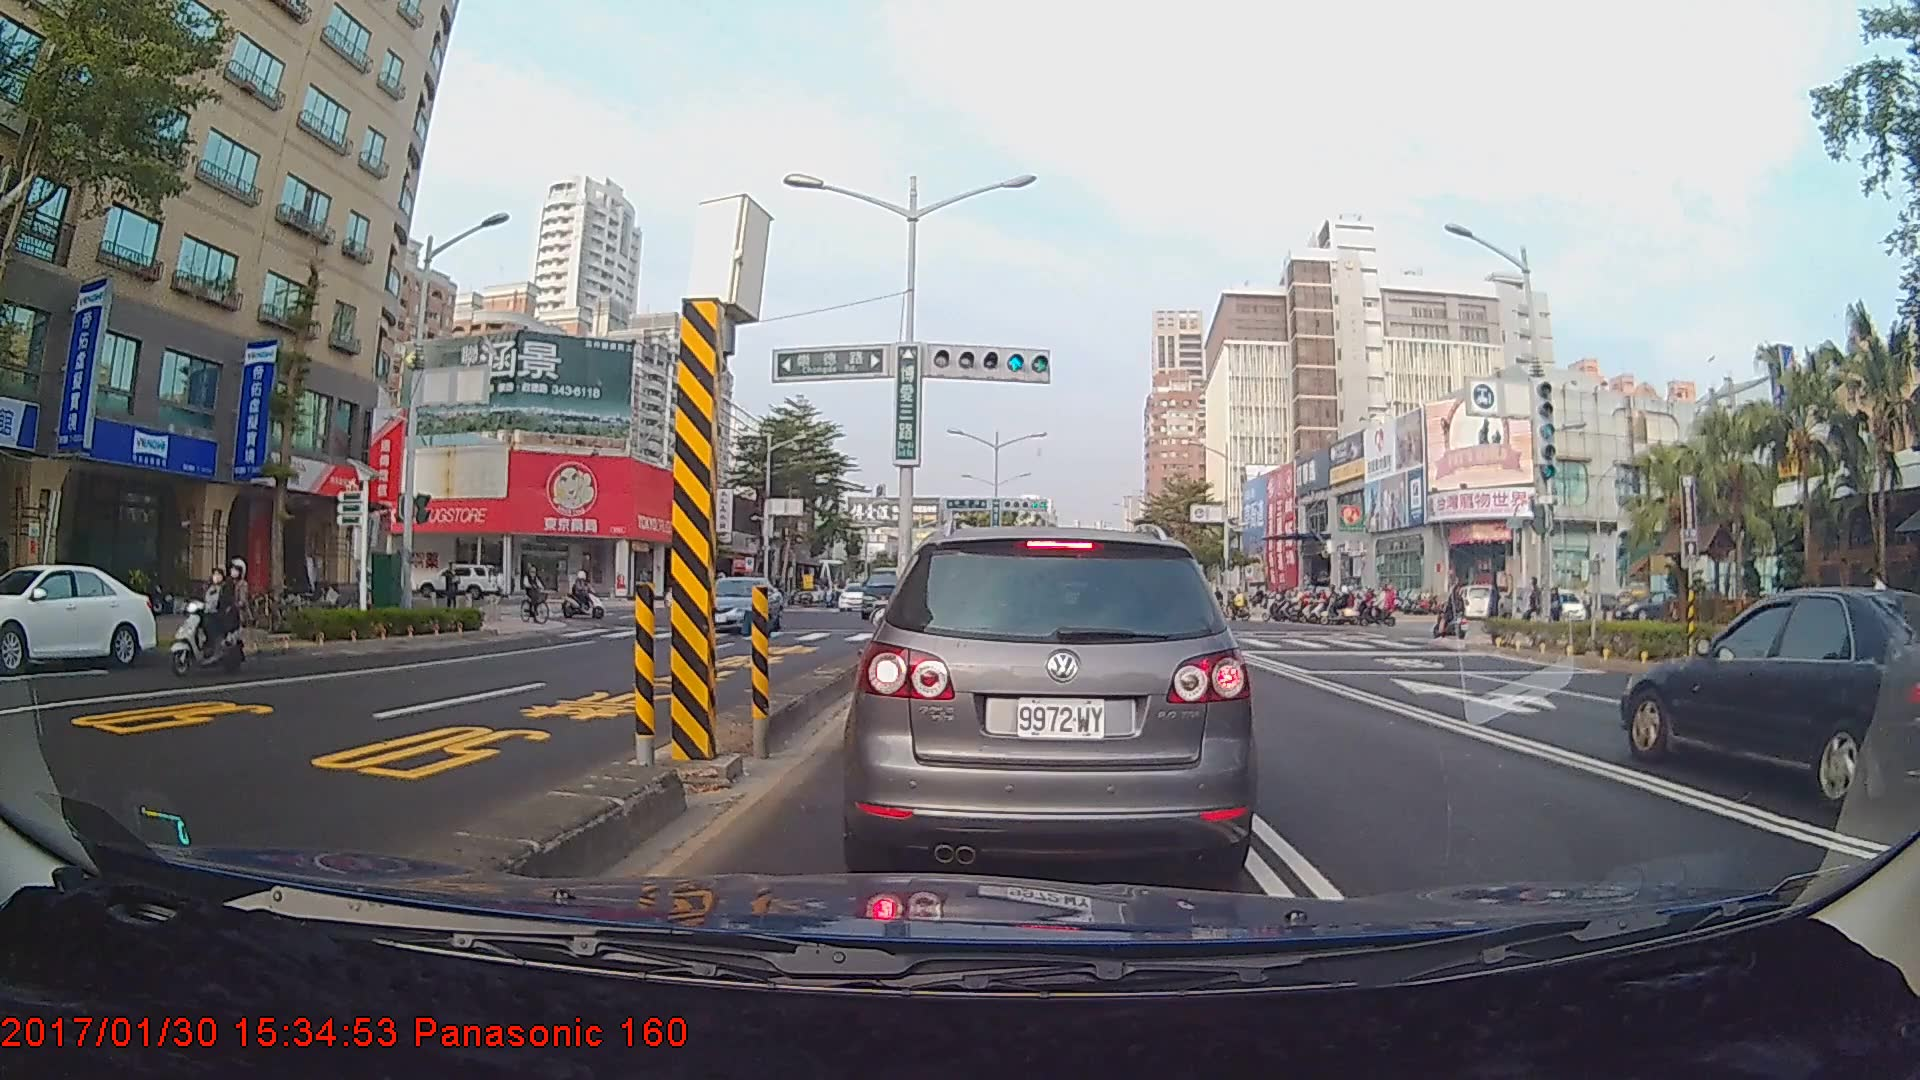pedestrian: (442, 558, 467, 621), (1484, 579, 1509, 637)
rider: (152, 556, 241, 684), (562, 568, 613, 625), (518, 559, 553, 629), (1436, 582, 1473, 646)
vehicle: (853, 522, 1251, 875), (1618, 587, 1919, 814), (0, 561, 157, 671), (690, 574, 782, 634), (857, 564, 912, 619), (837, 581, 875, 610)
